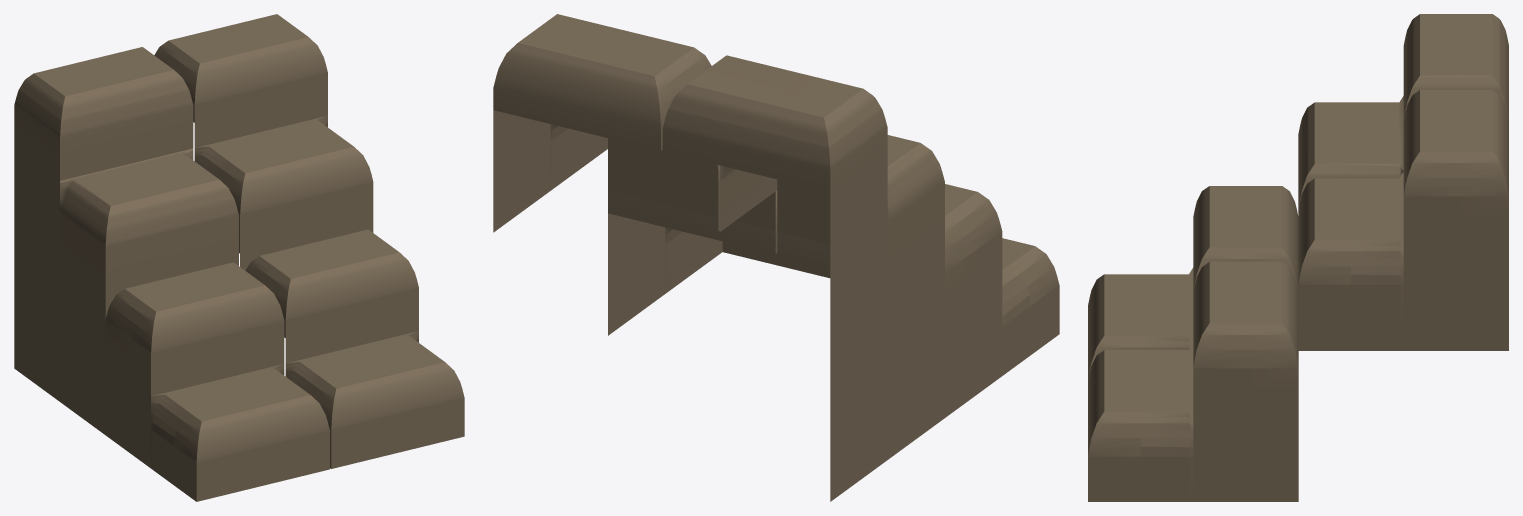
The model's file is stairs.fbx.
The picture shows the model from 3 angles, left to right: view 1: azimuth 30°, elevation 25°; view 2: azimuth 150°, elevation 25°; view 3: azimuth 270°, elevation 25°; orthographic projection. The views are drawn at different scales.
Parts seen in each view (by area): view 1: Double_Stairs_Cube_low1, Stairs_Cube_low2, Stairs_Cube_low1, Stairs_Cube_low3; view 2: Double_Stairs_Cube_low1, Stairs_Cube_low1, Stairs_Cube_low2, Stairs_Cube_low3; view 3: Stairs_Cube_low3, Stairs_Cube_low1, Double_Stairs_Cube_low1, Stairs_Cube_low2.
Boxes of the visible parts, left/top/right/bottom form: Double_Stairs_Cube_low1: left=14, top=47, right=238, bottom=434; Stairs_Cube_low2: left=105, top=262, right=329, bottom=501; Stairs_Cube_low1: left=154, top=14, right=373, bottom=270; Stairs_Cube_low3: left=245, top=229, right=464, bottom=468; Double_Stairs_Cube_low1: left=662, top=55, right=944, bottom=501; Stairs_Cube_low1: left=493, top=14, right=775, bottom=253; Stairs_Cube_low2: left=777, top=184, right=1059, bottom=417; Stairs_Cube_low3: left=608, top=190, right=830, bottom=335; Stairs_Cube_low3: left=1088, top=261, right=1298, bottom=501; Stairs_Cube_low1: left=1298, top=90, right=1508, bottom=329; Double_Stairs_Cube_low1: left=1298, top=14, right=1508, bottom=350; Stairs_Cube_low2: left=1088, top=186, right=1298, bottom=380.
Size of the model in its own units: 201 by 213 by 237.
